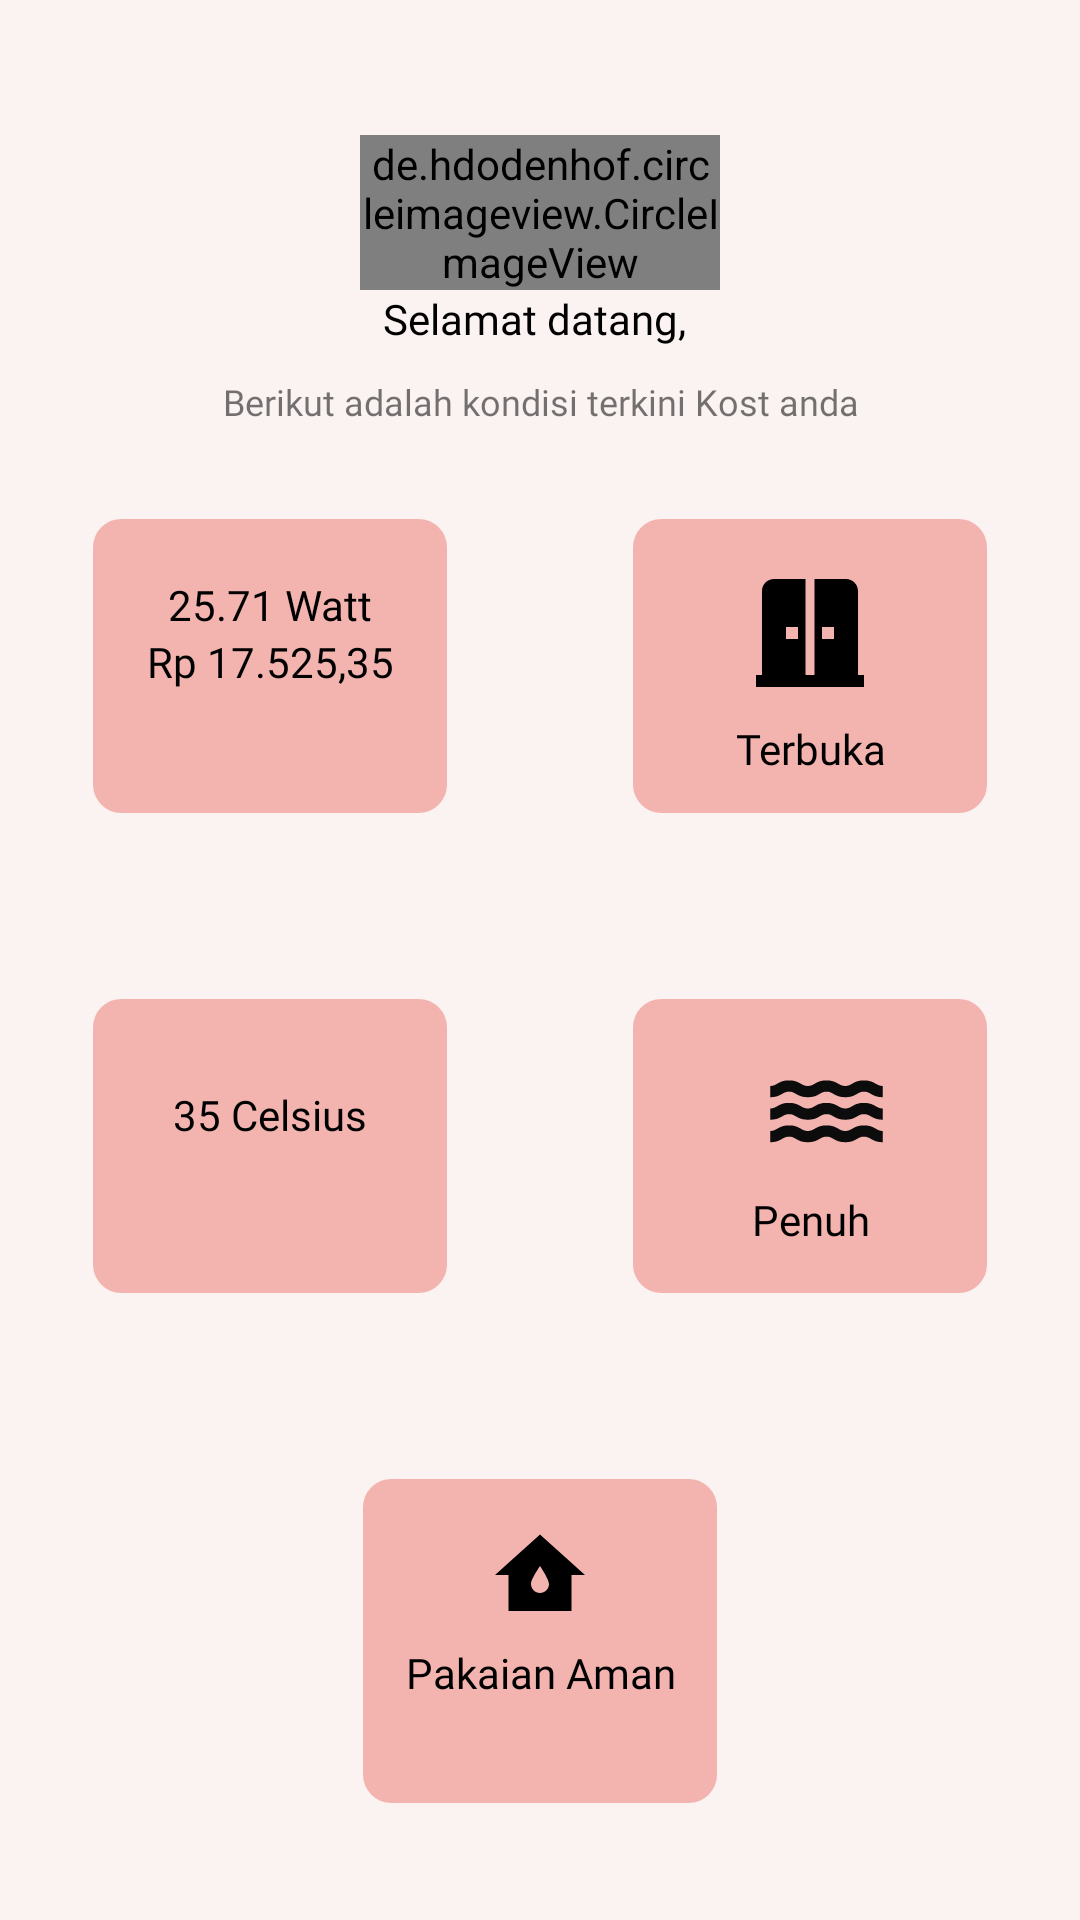

Locate icon controls on the screen. Image size 1080×1920, boxes as bbox=(x1, y1, x2, y2).
door sliding: bbox=(756, 579, 864, 687)
water: bbox=(770, 1080, 883, 1143)
water damage: bbox=(495, 1534, 585, 1611)
